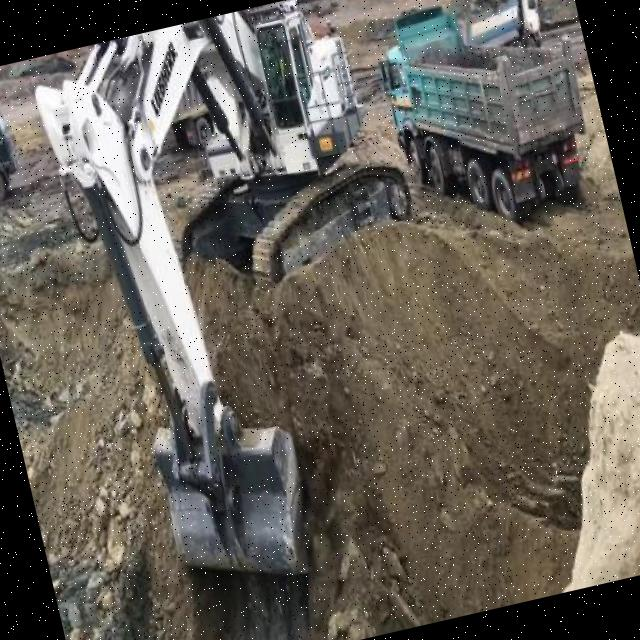Dump Truck: (368, 0, 595, 236), (0, 78, 42, 209), (441, 0, 544, 50)
Excavator: (12, 0, 483, 601)
